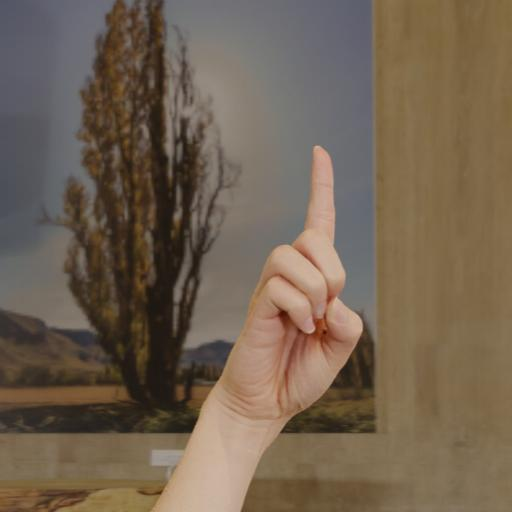D: (218, 134, 369, 432)
